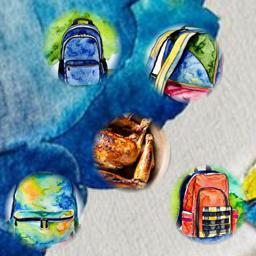something that can be eaten: (94, 114, 161, 188)
